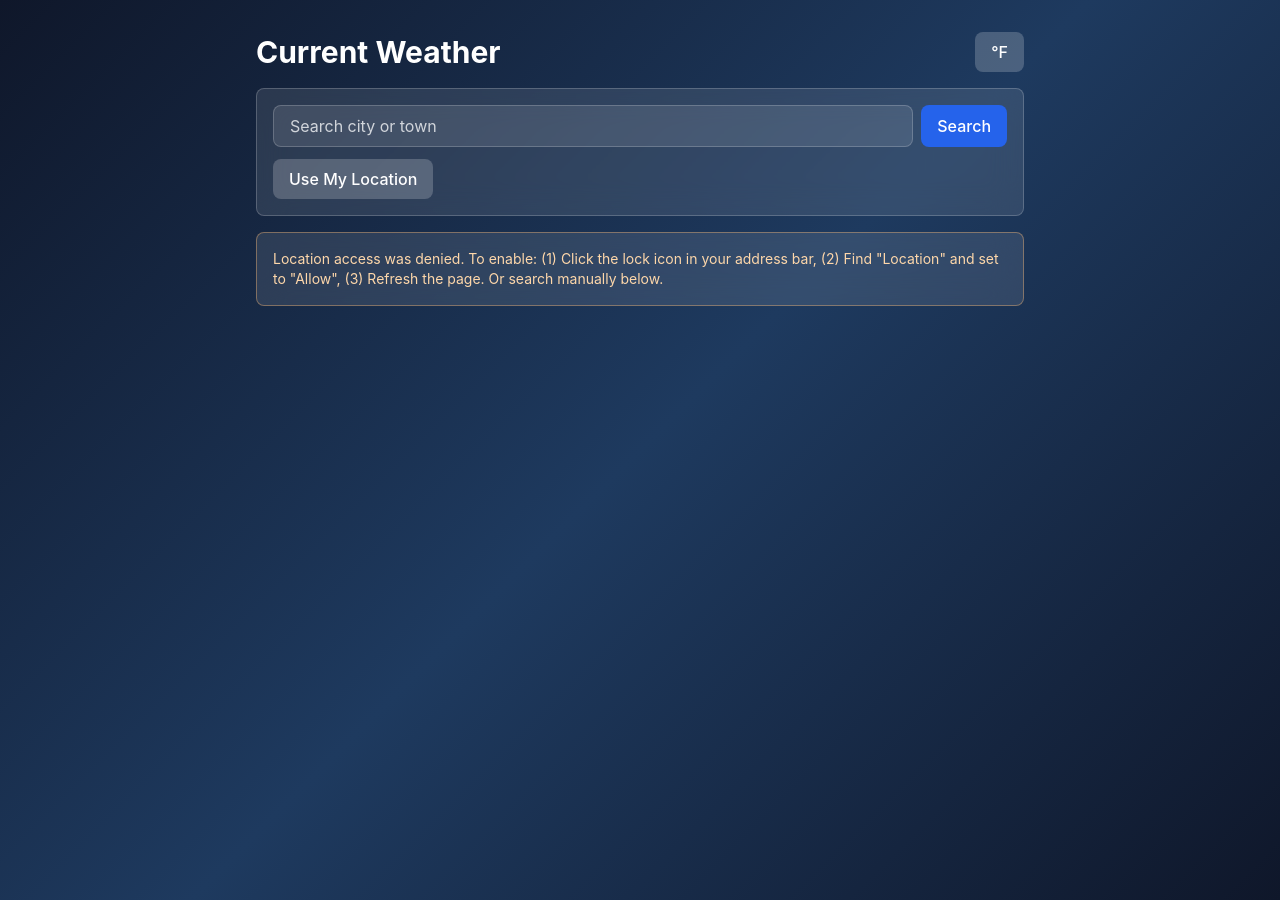
Test case: Same-session deny then grant via Use My Location (US2, FR-012) › loads weather when user clicks Use My Location after denial and then grants (FR-012)
Expected: the text "Location access was denied" is shown, [273,250,999,287]
// User retries via button
What coordinates should you click on to do the following:
click the button "Use My Location"
I would click on:
 (353, 179)
Its box is [273,159,433,199].
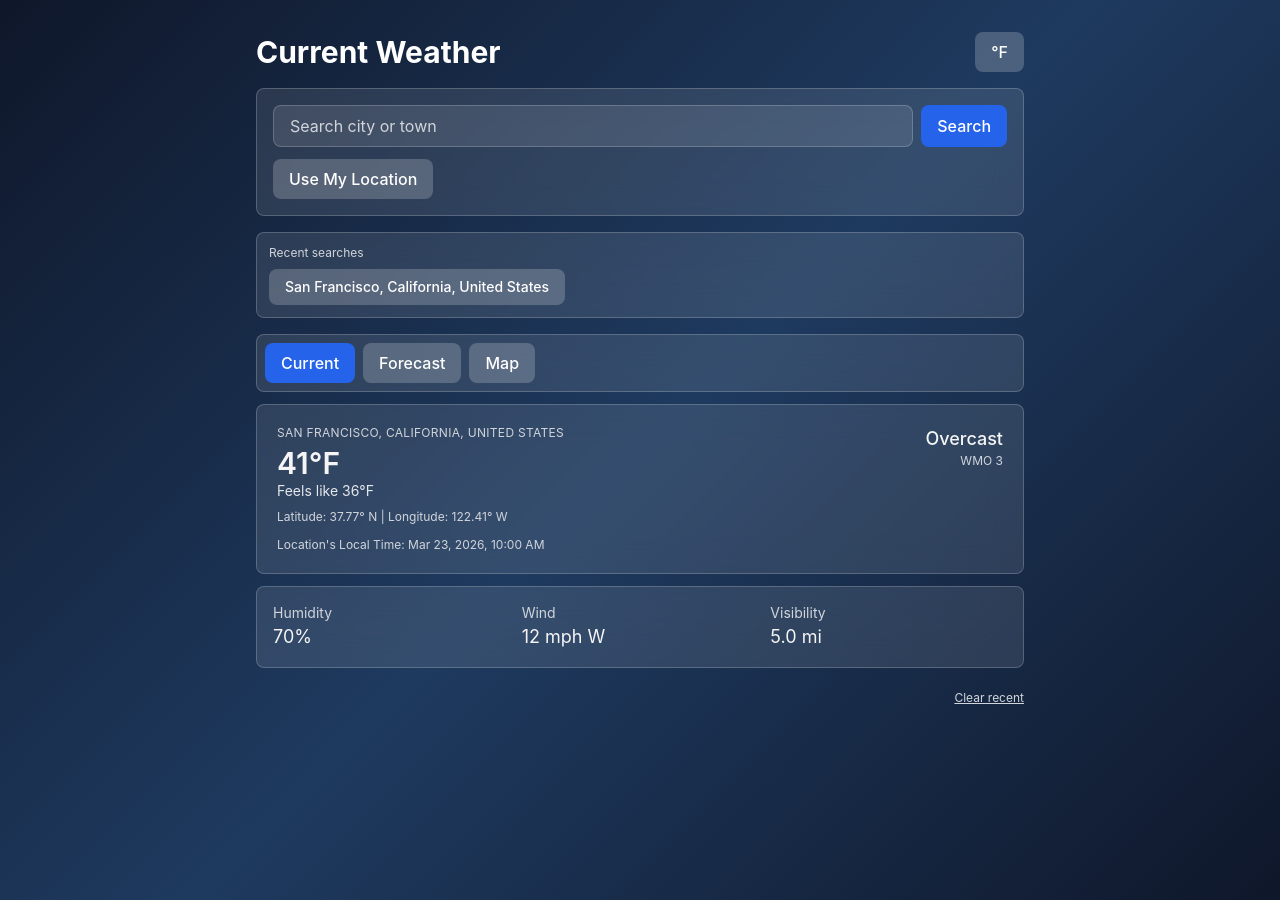
Expected: the element named "current weather" is shown, [256,404,1024,574]
Expected: the button "San Francisco, California, United States" is shown, [269,269,565,305]
